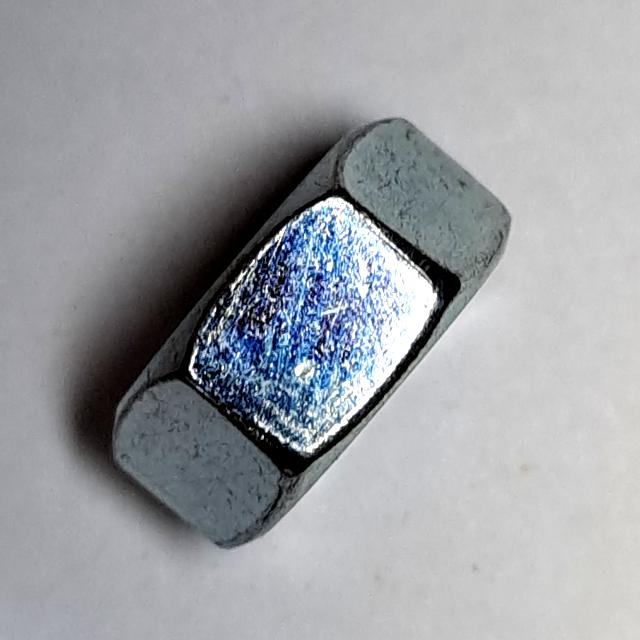Side_Excellent: (90, 107, 521, 566)
